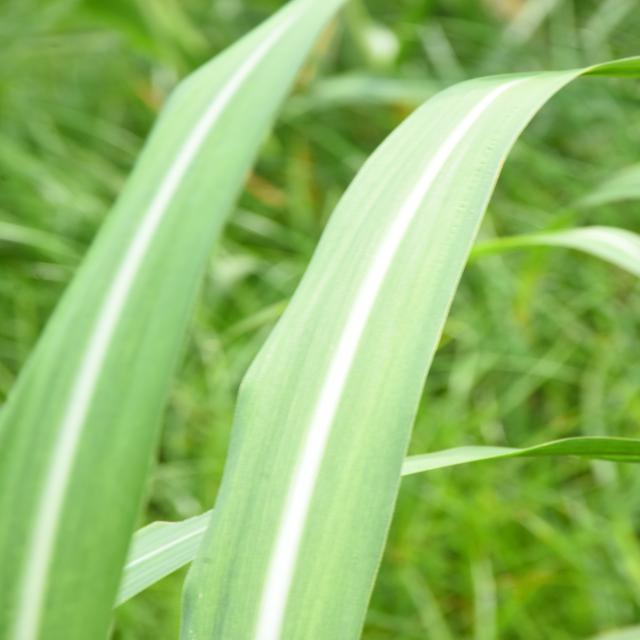Sugarcane: (173, 52, 640, 640), (0, 2, 358, 640)
